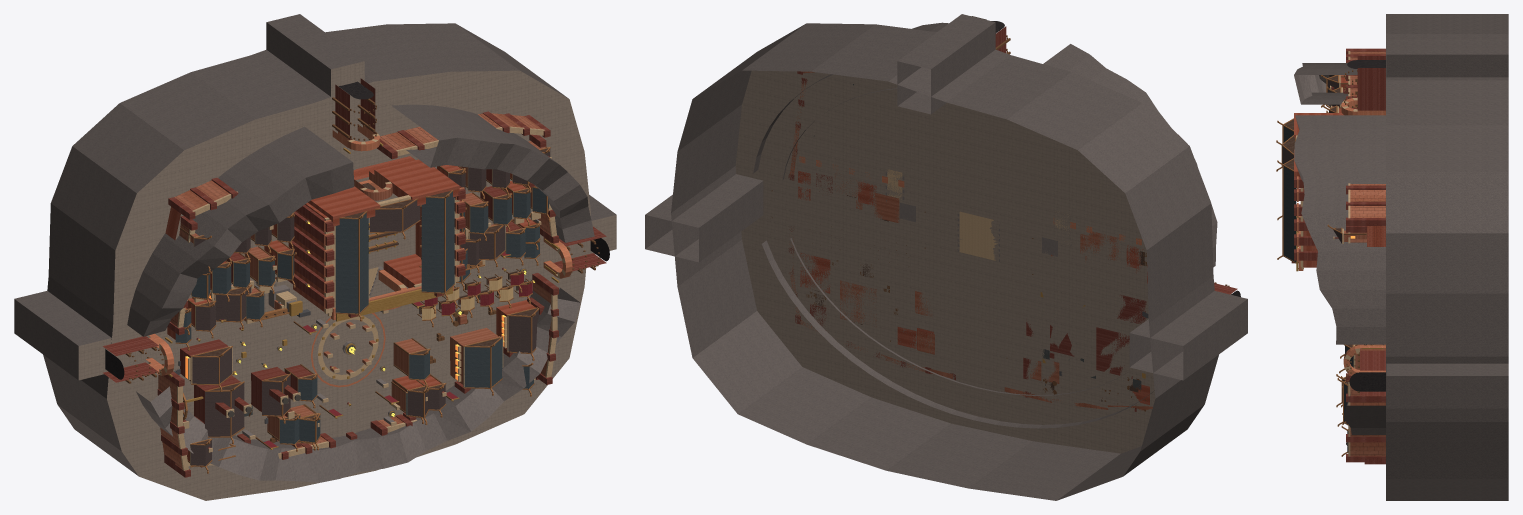
File: OrnGard_v1_Great_Brick_Hold.glb
3 renders of one model, left to right at view 1: azimuth 30°, elevation 25°; view 2: azimuth 150°, elevation 25°; view 3: azimuth 270°, elevation 25°, orthographic. The views are drawn at different scales.
Visible parts, largest first — view 1: OrnGard_cliff, OrnGard_paving, OrnGard_granite, OrnGard_slate_roof, OrnGard_deep_brick, OrnGard_charred_roof, OrnGard_red_brick, OrnGard_carved_oak, OrnGard_old_brick, OrnGard_stone_trim, OrnGard_carved_brick, OrnGard_oaken_beam (+5 smaller); view 2: OrnGard_paving, OrnGard_cliff, OrnGard_old_brick, OrnGard_deep_brick, OrnGard_red_brick, OrnGard_stone_trim, OrnGard_granite; view 3: OrnGard_cliff, OrnGard_deep_brick, OrnGard_old_brick, OrnGard_slate_roof, OrnGard_carved_oak, OrnGard_carved_brick, OrnGard_red_brick, OrnGard_dark_tunnel, OrnGard_stone_trim, OrnGard_granite, OrnGard_dark_wood, OrnGard_charred_roof (+1 smaller).
Part boxes in pixels (x1,y1,x2,y2): OrnGard_cliff: (14,14,616,476); OrnGard_paving: (78,61,616,500); OrnGard_granite: (143,137,594,482); OrnGard_slate_roof: (175,188,548,443); OrnGard_deep_brick: (103,78,606,477); OrnGard_charred_roof: (190,149,550,465); OrnGard_red_brick: (165,156,535,461); OrnGard_carved_oak: (175,147,550,473); OrnGard_old_brick: (158,113,551,469); OrnGard_stone_trim: (159,126,565,470); OrnGard_carved_brick: (146,124,572,387); OrnGard_oaken_beam: (125,97,600,462); OrnGard_paving: (735,16,1155,453); OrnGard_cliff: (645,14,1247,500); OrnGard_old_brick: (789,71,1152,410); OrnGard_deep_brick: (788,26,1237,411); OrnGard_red_brick: (798,170,1149,404); OrnGard_stone_trim: (887,169,1070,260); OrnGard_granite: (885,172,1071,261); OrnGard_cliff: (1294,14,1508,500); OrnGard_deep_brick: (1291,48,1385,464); OrnGard_old_brick: (1339,51,1385,456); OrnGard_slate_roof: (1283,126,1366,451); OrnGard_carved_oak: (1276,75,1374,456); OrnGard_carved_brick: (1297,98,1385,375); OrnGard_red_brick: (1294,77,1385,267); OrnGard_dark_tunnel: (1347,60,1385,391); OrnGard_stone_trim: (1296,51,1360,456); OrnGard_granite: (1294,63,1351,443); OrnGard_dark_wood: (1283,75,1383,384); OrnGard_charred_roof: (1282,75,1344,401).
Size of the model in its own units: 250 by 183 by 98.53.
22 materials, 22 textured.
